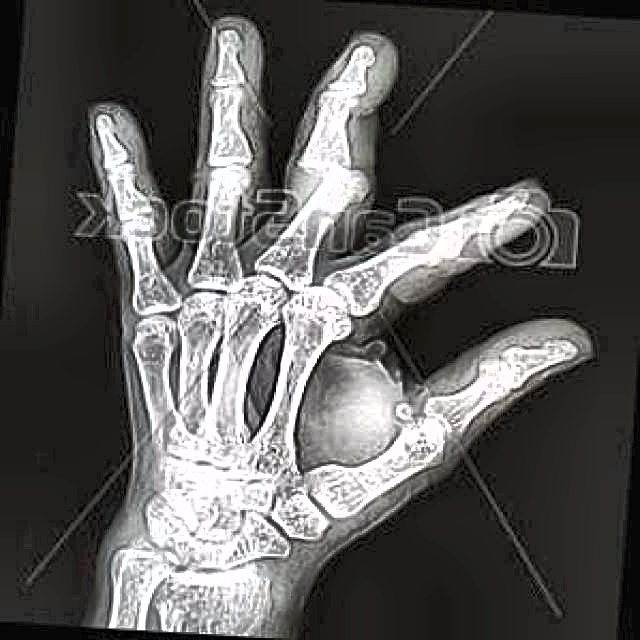Transverse: (287, 145, 380, 206)
